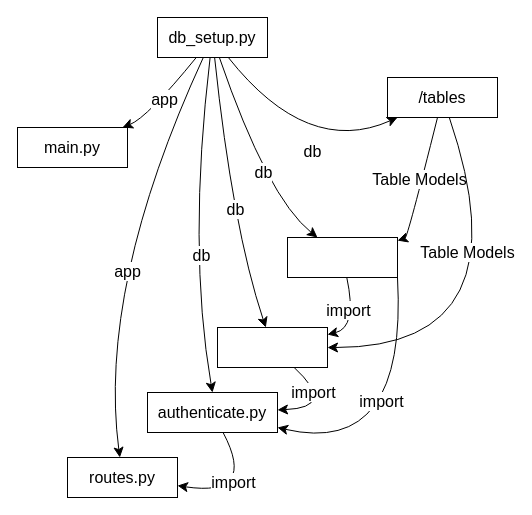
Image size: 532x515. Some labels were removed from this diagram. Here are the shapes that lost their labels. From the top down, the centre of each, then its label:
[342,257]: sql_query.py
[272,347]: sql_update.py
